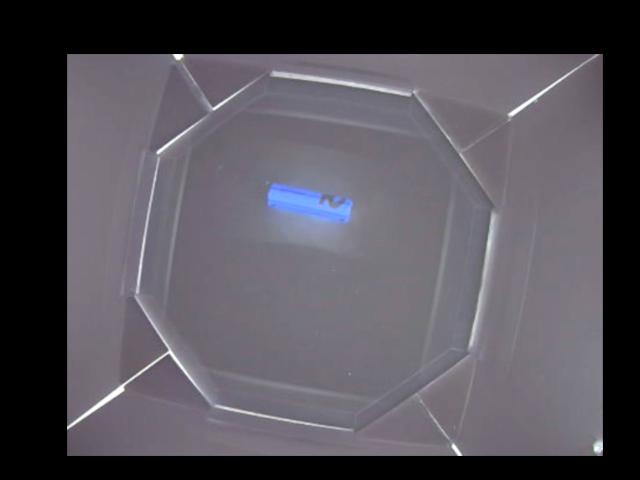Battery: (268, 183, 353, 219)
